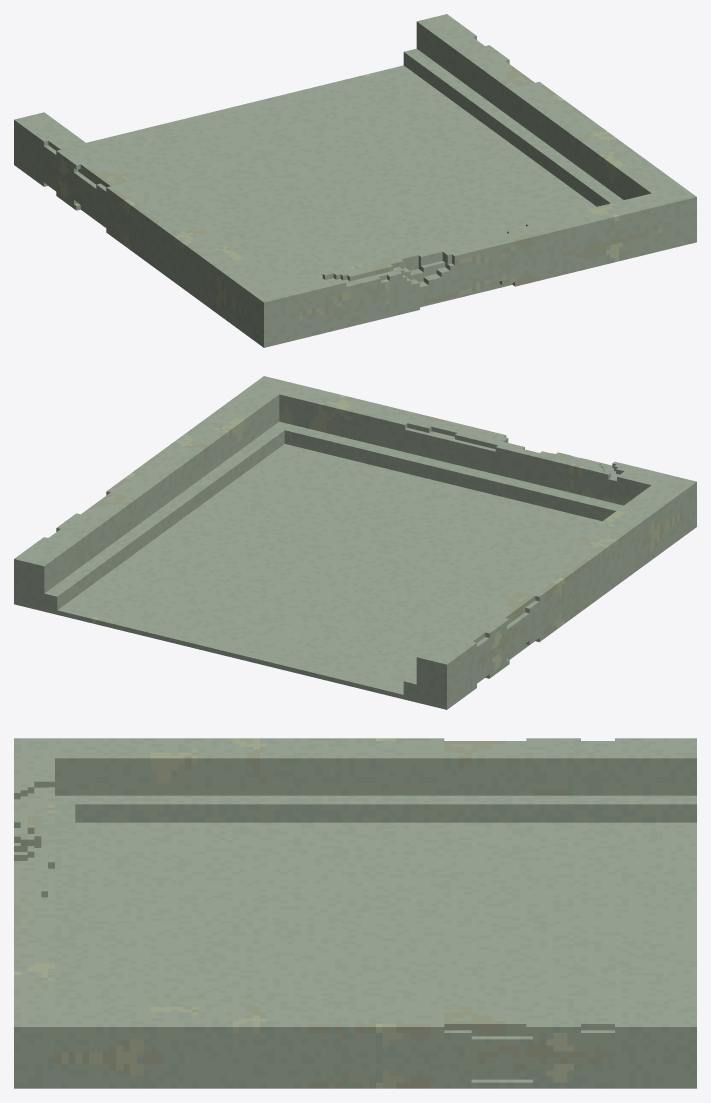
File: VoxelNuke-16-Rooftop-1.obj
3 views of the same model, one above another, from view 1: azimuth 30°, elevation 25°; view 2: azimuth 150°, elevation 25°; view 3: azimuth 270°, elevation 25° (orthographic). The views are drawn at different scales.
Visible parts, largest first — view 1: Rooftop-1; view 2: Rooftop-1; view 3: Rooftop-1.
Part boxes in pixels (bbox=[...]): Rooftop-1: bbox=[14, 14, 696, 347]; Rooftop-1: bbox=[14, 376, 696, 709]; Rooftop-1: bbox=[14, 738, 696, 1088].
Bounding box in the file's own units: 2 × 0.2 × 2.
Materials: 1 (1 with a texture image).
